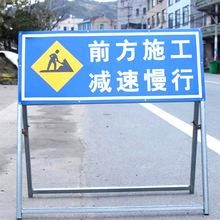sign: (15, 28, 212, 214)
